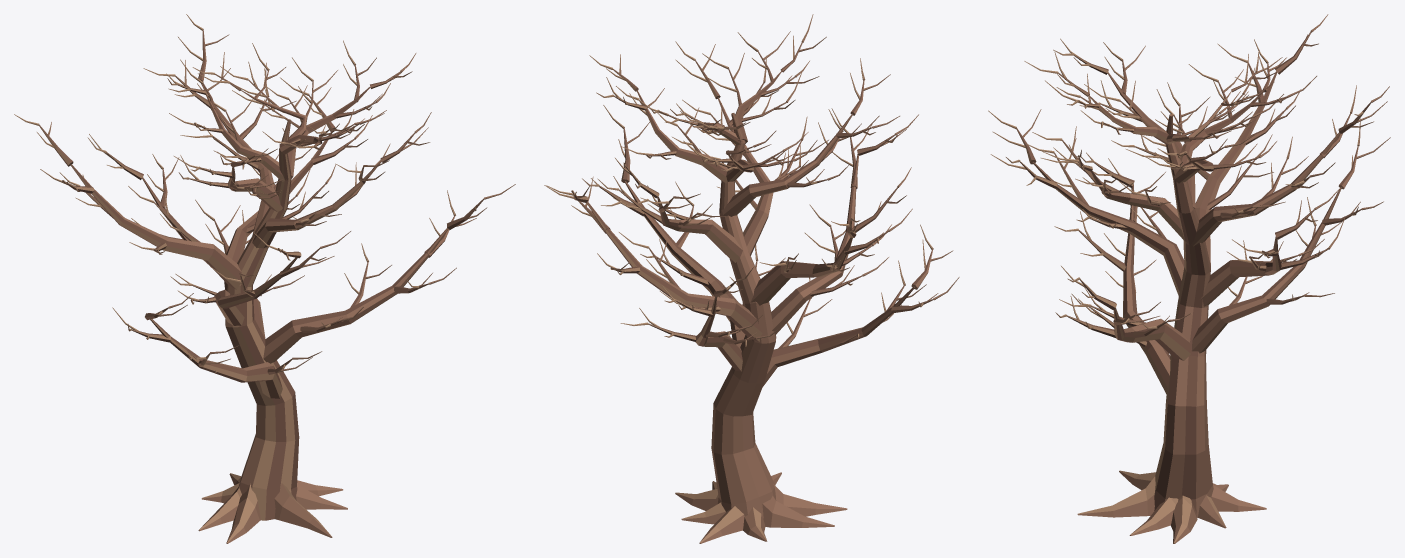
The model's file is dead.glb.
3 views of the same model, side by side, from view 1: azimuth 30°, elevation 25°; view 2: azimuth 150°, elevation 25°; view 3: azimuth 270°, elevation 25° (orthographic). The views are drawn at different scales.
Parts seen in each view (by area): view 1: Heartwood; view 2: Heartwood; view 3: Heartwood.
Boxes of the visible parts, x1,y1,x2,y2 form: Heartwood: (14, 14, 515, 543); Heartwood: (544, 14, 959, 543); Heartwood: (988, 14, 1390, 543).
Size of the model in its own units: 2.71 by 2.97 by 2.4.
